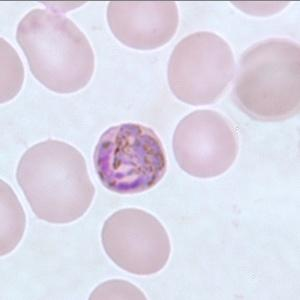Infected: (94, 123, 168, 193)
Uninfected: (17, 10, 95, 95), (16, 141, 93, 223), (241, 38, 300, 121), (167, 32, 233, 106), (102, 207, 168, 277), (174, 110, 238, 179), (106, 0, 180, 51)
